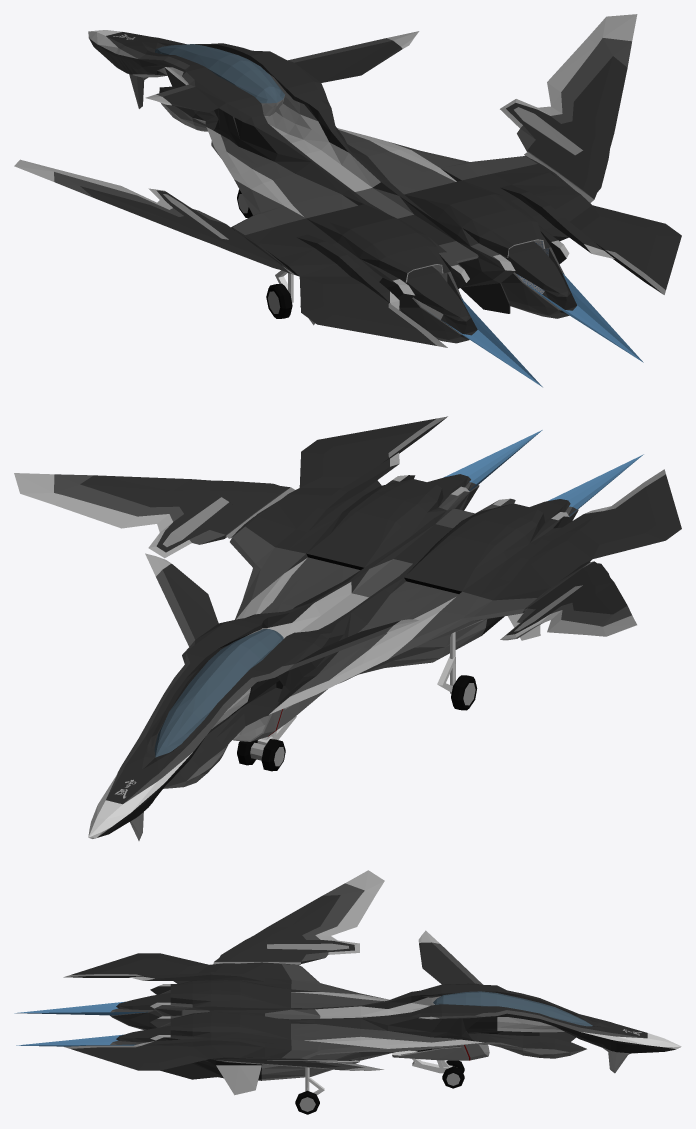
File: frx00.obj
The picture shows the model from 3 angles, top to bottom: view 1: azimuth 30°, elevation 25°; view 2: azimuth 150°, elevation 25°; view 3: azimuth 270°, elevation 25°; orthographic projection. The views are drawn at different scales.
Parts seen in each view (by area): view 1: ShapeIndexedFaceSet.005_ShapeIndexedFaceSet.006, ShapeIndexedFaceSet.001_ShapeIndexedFaceSet.002, ShapeIndexedFaceSet_ShapeIndexedFaceSet.001, ShapeIndexedFaceSet.039_ShapeIndexedFaceSet.040, ShapeIndexedFaceSet.029_ShapeIndexedFaceSet.030, ShapeIndexedFaceSet.031_ShapeIndexedFaceSet.032, ShapeIndexedFaceSet.007_ShapeIndexedFaceSet.008, ShapeIndexedFaceSet.034_ShapeIndexedFaceSet.035, ShapeIndexedFaceSet.020_ShapeIndexedFaceSet.021, ShapeIndexedFaceSet.052_ShapeIndexedFaceSet.053, ShapeIndexedFaceSet.041_ShapeIndexedFaceSet.042, ShapeIndexedFaceSet.002_ShapeIndexedFaceSet.003 (+15 smaller); view 2: ShapeIndexedFaceSet.005_ShapeIndexedFaceSet.006, ShapeIndexedFaceSet.001_ShapeIndexedFaceSet.002, ShapeIndexedFaceSet_ShapeIndexedFaceSet.001, ShapeIndexedFaceSet.039_ShapeIndexedFaceSet.040, ShapeIndexedFaceSet.020_ShapeIndexedFaceSet.021, ShapeIndexedFaceSet.029_ShapeIndexedFaceSet.030, ShapeIndexedFaceSet.031_ShapeIndexedFaceSet.032, ShapeIndexedFaceSet.002_ShapeIndexedFaceSet.003, ShapeIndexedFaceSet.034_ShapeIndexedFaceSet.035, ShapeIndexedFaceSet.041_ShapeIndexedFaceSet.042, ShapeIndexedFaceSet.007_ShapeIndexedFaceSet.008, ShapeIndexedFaceSet.010_ShapeIndexedFaceSet.011 (+12 smaller); view 3: ShapeIndexedFaceSet.005_ShapeIndexedFaceSet.006, ShapeIndexedFaceSet.001_ShapeIndexedFaceSet.002, ShapeIndexedFaceSet.034_ShapeIndexedFaceSet.035, ShapeIndexedFaceSet_ShapeIndexedFaceSet.001, ShapeIndexedFaceSet.010_ShapeIndexedFaceSet.011, ShapeIndexedFaceSet.031_ShapeIndexedFaceSet.032, ShapeIndexedFaceSet.029_ShapeIndexedFaceSet.030, ShapeIndexedFaceSet.020_ShapeIndexedFaceSet.021, ShapeIndexedFaceSet.036_ShapeIndexedFaceSet.037, ShapeIndexedFaceSet.007_ShapeIndexedFaceSet.008, ShapeIndexedFaceSet.002_ShapeIndexedFaceSet.003, ShapeIndexedFaceSet.052_ShapeIndexedFaceSet.053 (+14 smaller).
Boxes of the visible parts, bbox=[...] form: ShapeIndexedFaceSet.005_ShapeIndexedFaceSet.006: bbox=[89, 38, 603, 313]; ShapeIndexedFaceSet.001_ShapeIndexedFaceSet.002: bbox=[106, 36, 537, 234]; ShapeIndexedFaceSet_ShapeIndexedFaceSet.001: bbox=[106, 32, 461, 244]; ShapeIndexedFaceSet.039_ShapeIndexedFaceSet.040: bbox=[506, 56, 627, 199]; ShapeIndexedFaceSet.029_ShapeIndexedFaceSet.030: bbox=[299, 276, 436, 345]; ShapeIndexedFaceSet.031_ShapeIndexedFaceSet.032: bbox=[570, 205, 681, 293]; ShapeIndexedFaceSet.007_ShapeIndexedFaceSet.008: bbox=[89, 37, 614, 309]; ShapeIndexedFaceSet.034_ShapeIndexedFaceSet.035: bbox=[80, 186, 293, 273]; ShapeIndexedFaceSet.020_ShapeIndexedFaceSet.021: bbox=[155, 44, 284, 103]; ShapeIndexedFaceSet.052_ShapeIndexedFaceSet.053: bbox=[443, 273, 643, 387]; ShapeIndexedFaceSet.041_ShapeIndexedFaceSet.042: bbox=[500, 14, 637, 128]; ShapeIndexedFaceSet.002_ShapeIndexedFaceSet.003: bbox=[113, 34, 456, 216]; ShapeIndexedFaceSet.005_ShapeIndexedFaceSet.006: bbox=[97, 459, 604, 837]; ShapeIndexedFaceSet.001_ShapeIndexedFaceSet.002: bbox=[106, 526, 536, 802]; ShapeIndexedFaceSet_ShapeIndexedFaceSet.001: bbox=[106, 519, 452, 804]; ShapeIndexedFaceSet.039_ShapeIndexedFaceSet.040: bbox=[80, 475, 290, 552]; ShapeIndexedFaceSet.020_ShapeIndexedFaceSet.021: bbox=[154, 629, 283, 757]; ShapeIndexedFaceSet.029_ShapeIndexedFaceSet.030: bbox=[567, 474, 681, 559]; ShapeIndexedFaceSet.031_ShapeIndexedFaceSet.032: bbox=[299, 417, 446, 487]; ShapeIndexedFaceSet.002_ShapeIndexedFaceSet.003: bbox=[115, 558, 455, 798]; ShapeIndexedFaceSet.034_ShapeIndexedFaceSet.035: bbox=[506, 561, 627, 635]; ShapeIndexedFaceSet.041_ShapeIndexedFaceSet.042: bbox=[14, 473, 191, 558]; ShapeIndexedFaceSet.007_ShapeIndexedFaceSet.008: bbox=[97, 453, 610, 837]; ShapeIndexedFaceSet.010_ShapeIndexedFaceSet.011: bbox=[163, 619, 487, 788]; ShapeIndexedFaceSet.005_ShapeIndexedFaceSet.006: bbox=[142, 963, 675, 1080]; ShapeIndexedFaceSet.001_ShapeIndexedFaceSet.002: bbox=[282, 964, 645, 1058]; ShapeIndexedFaceSet.034_ShapeIndexedFaceSet.035: bbox=[214, 895, 354, 964]; ShapeIndexedFaceSet_ShapeIndexedFaceSet.001: bbox=[209, 983, 647, 1038]; ShapeIndexedFaceSet.010_ShapeIndexedFaceSet.011: bbox=[261, 1042, 646, 1080]; ShapeIndexedFaceSet.031_ShapeIndexedFaceSet.032: bbox=[71, 1045, 208, 1070]; ShapeIndexedFaceSet.029_ShapeIndexedFaceSet.030: bbox=[64, 953, 208, 977]; ShapeIndexedFaceSet.020_ShapeIndexedFaceSet.021: bbox=[433, 991, 592, 1026]; ShapeIndexedFaceSet.036_ShapeIndexedFaceSet.037: bbox=[315, 870, 384, 954]; ShapeIndexedFaceSet.007_ShapeIndexedFaceSet.008: bbox=[129, 976, 675, 1049]; ShapeIndexedFaceSet.002_ShapeIndexedFaceSet.003: bbox=[291, 992, 641, 1048]; ShapeIndexedFaceSet.052_ShapeIndexedFaceSet.053: bbox=[14, 1001, 147, 1046].
Size of the model in its own units: 1384 by 365 by 1945.
